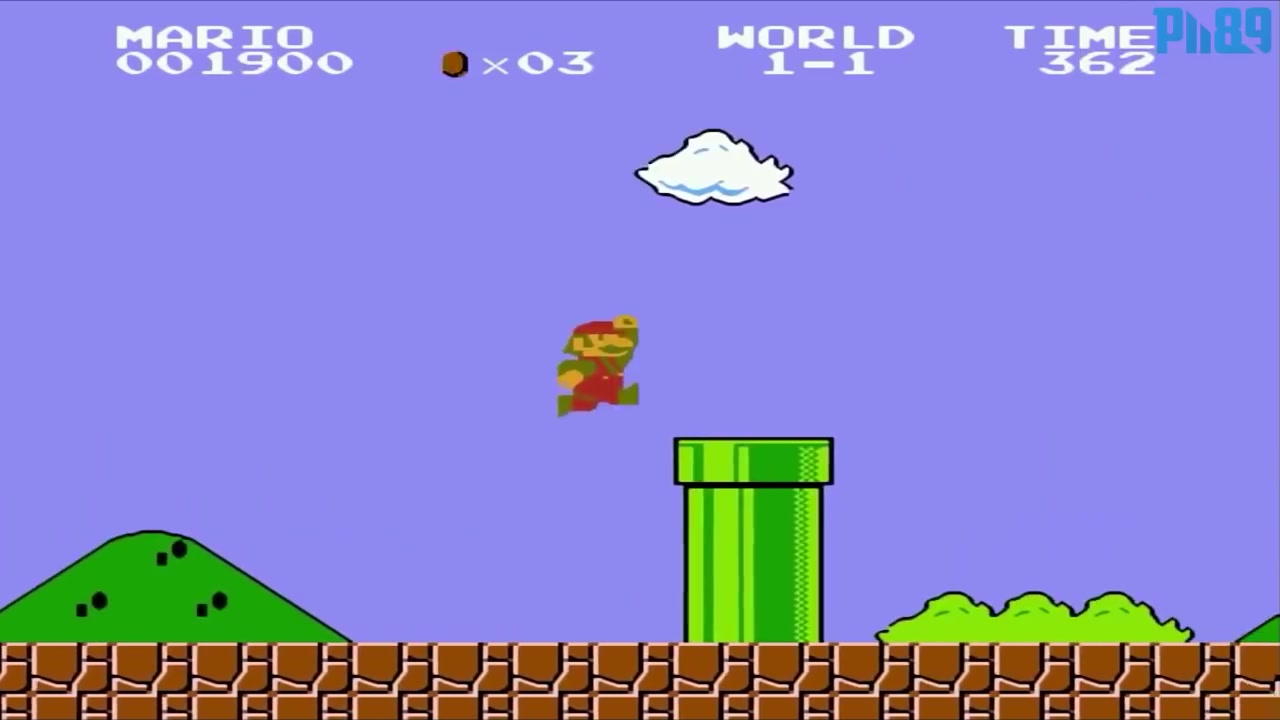mario: (547, 309, 643, 418)
